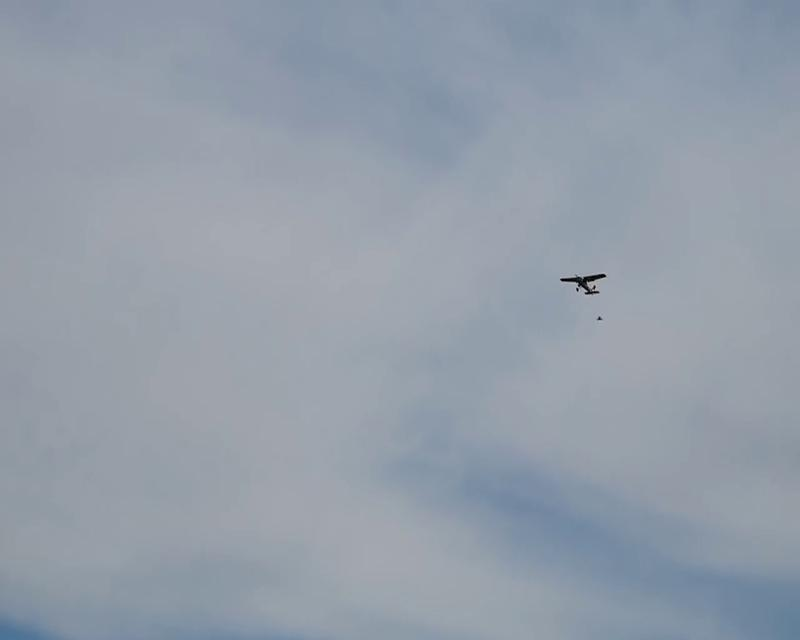UAV: (559, 272, 608, 298)
